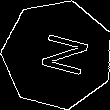N_W: (28, 29, 87, 81)
